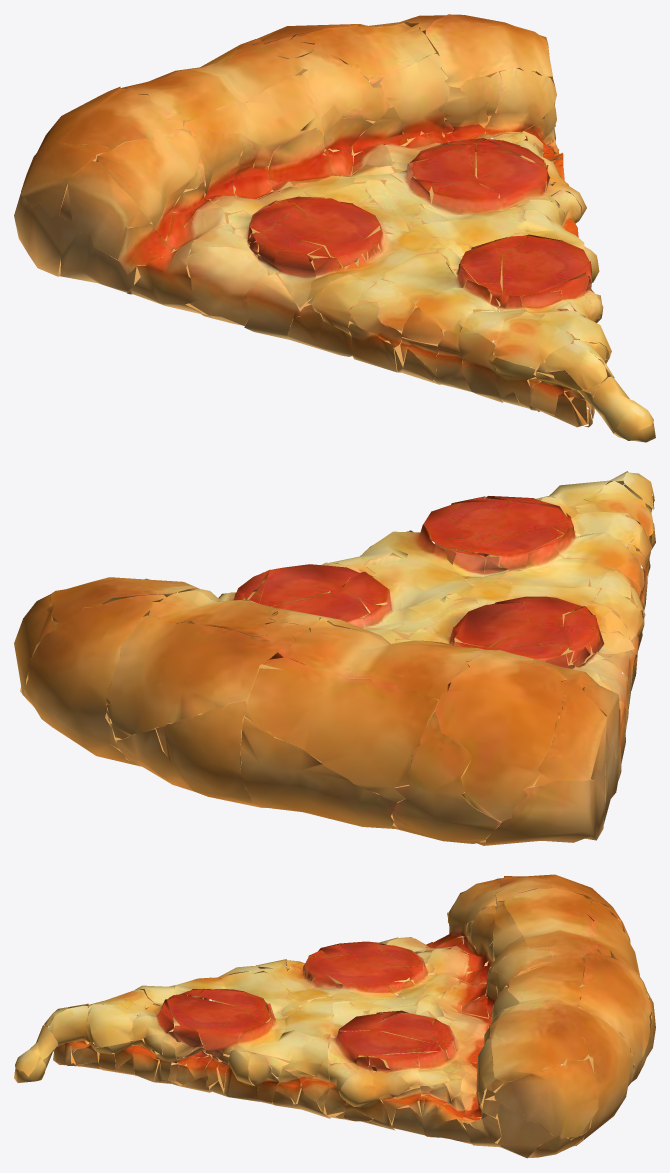
Rendered from pizza_slice.glb.
The picture shows the model from 3 angles, top to bottom: view 1: azimuth 30°, elevation 25°; view 2: azimuth 150°, elevation 25°; view 3: azimuth 270°, elevation 25°; orthographic projection. The views are drawn at different scales.
Parts seen in each view (by area): view 1: pizza_slice; view 2: pizza_slice; view 3: pizza_slice.
Part boxes in pixels (<box>): pizza_slice: <box>14,14,655,442</box>; pizza_slice: <box>14,471,655,845</box>; pizza_slice: <box>14,874,655,1158</box>.
Bounding box in the file's own units: 0.1491 × 0.0405 × 0.1925.
1 material, 1 textured.
